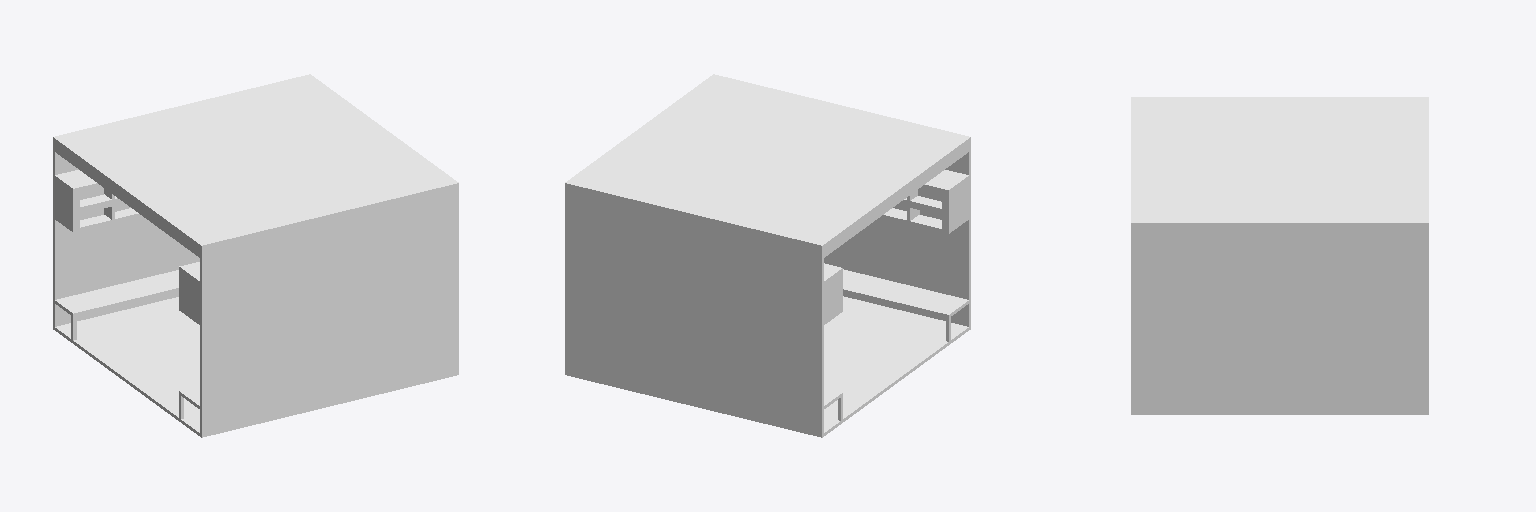
File: LockerRoom.obj
3 views of the same model, side by side, from view 1: azimuth 30°, elevation 25°; view 2: azimuth 150°, elevation 25°; view 3: azimuth 270°, elevation 25° (orthographic).
Size of the model in its own units: 80 by 57 by 80.